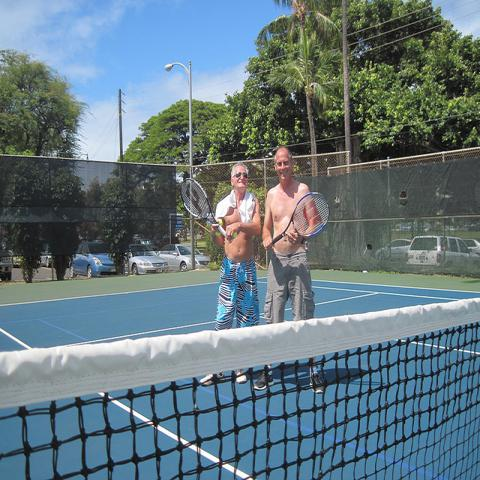car: (405, 236, 479, 275), (69, 240, 117, 279), (155, 243, 210, 271), (127, 245, 170, 276), (375, 238, 413, 261), (0, 241, 13, 282), (129, 238, 159, 250), (463, 239, 480, 254), (39, 250, 52, 268)
